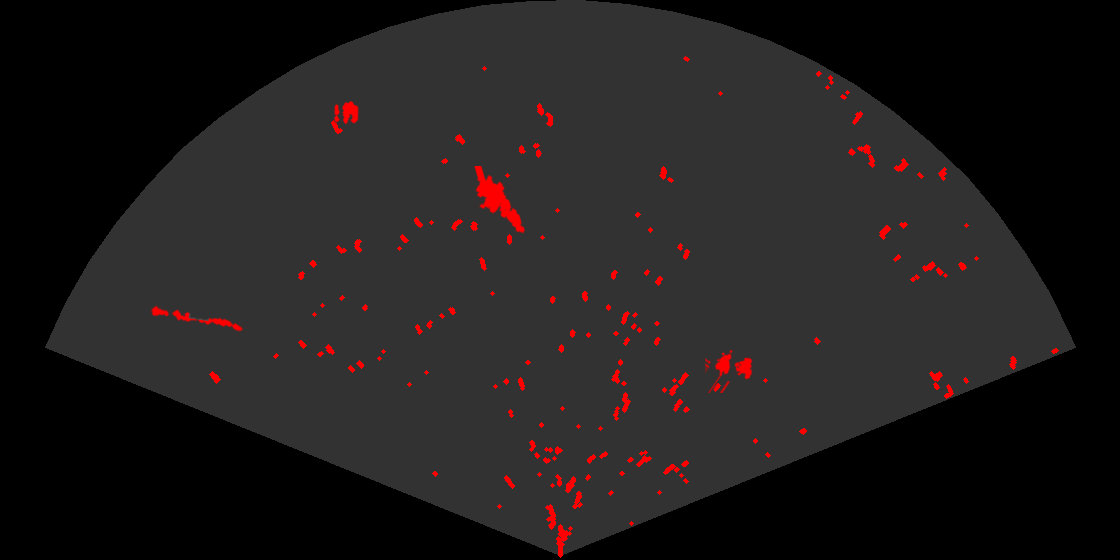ball: (333, 100, 360, 126)
cage: (705, 348, 754, 393)
chain: (149, 304, 245, 333)
frogman: (473, 166, 526, 236)
